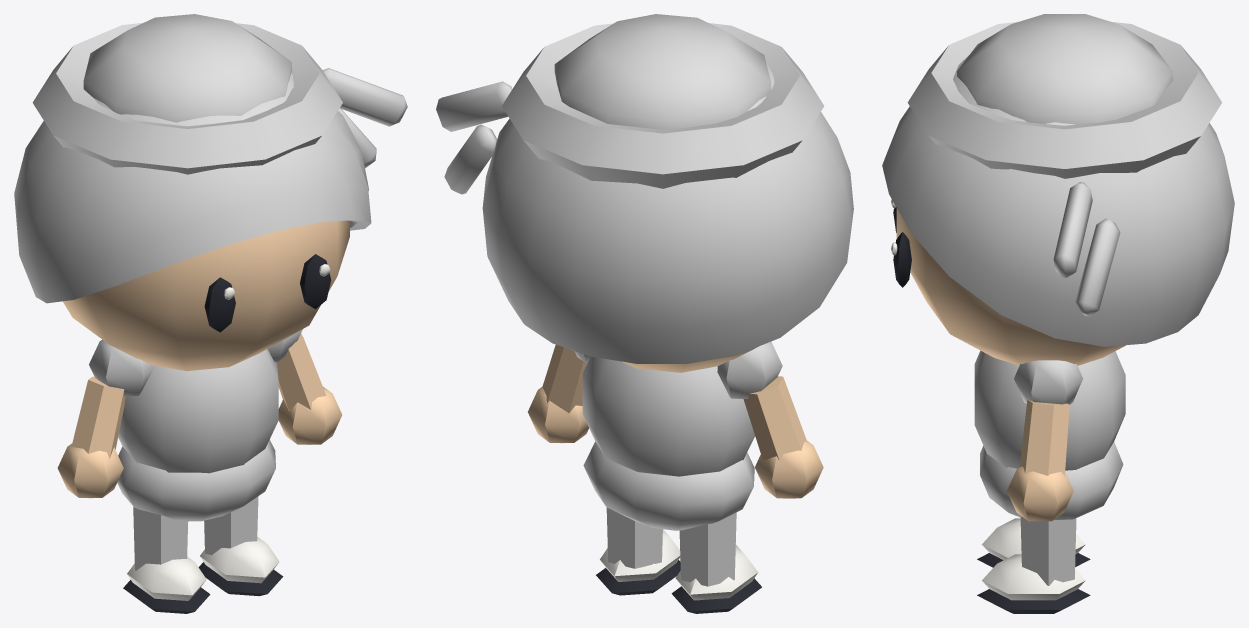
File: guyh_sailor.fbx
3 views of the same model, side by side, from view 1: azimuth 30°, elevation 25°; view 2: azimuth 150°, elevation 25°; view 3: azimuth 270°, elevation 25° (orthographic). The views are drawn at different scales.
Visible parts, largest first — view 1: guyh_sailor; view 2: guyh_sailor; view 3: guyh_sailor.
Part boxes in pixels (x1=…): guyh_sailor: x1=14, y1=14, x2=407, y2=613; guyh_sailor: x1=436, y1=14, x2=853, y2=613; guyh_sailor: x1=882, y1=14, x2=1234, y2=613.
Bounding box in the file's own units: 0.5345 × 0.7535 × 0.4304.
